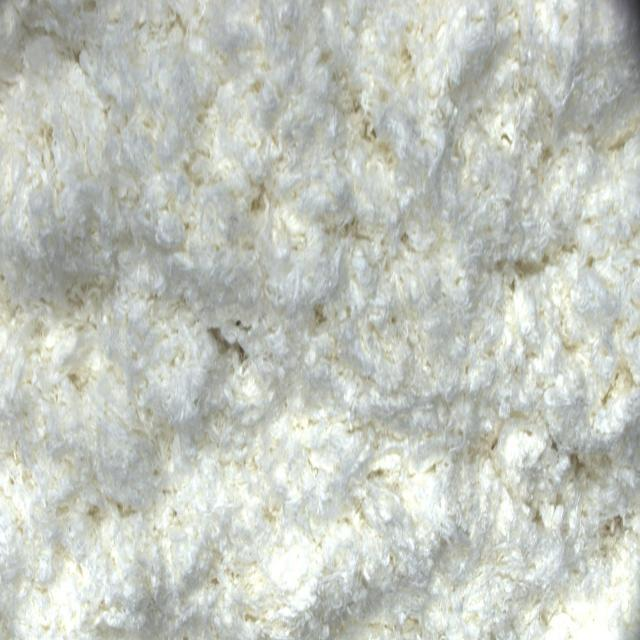dust: (208, 326, 256, 380)
